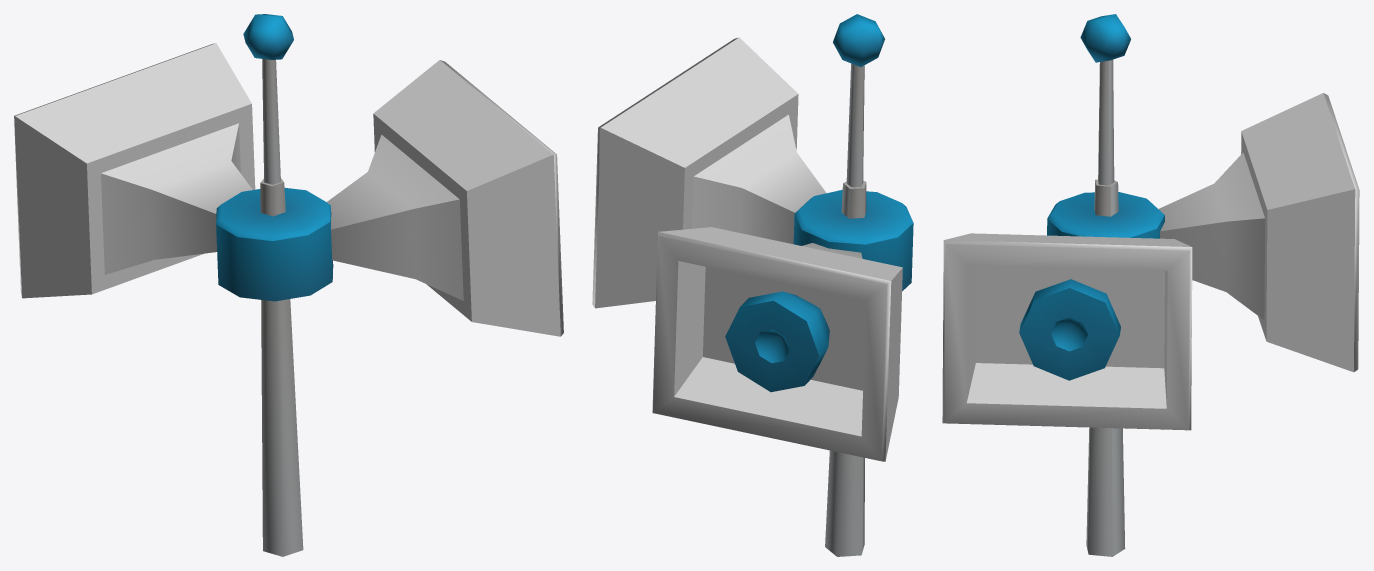
Rendered from ExchangeSpeakers.glb.
3 renders of one model, left to right at view 1: azimuth 30°, elevation 25°; view 2: azimuth 150°, elevation 25°; view 3: azimuth 270°, elevation 25°, orthographic.
Parts seen in each view (by area): view 1: ExchangeSpeakers; view 2: ExchangeSpeakers; view 3: ExchangeSpeakers.
Boxes of the visible parts, left/top/right/bottom form: ExchangeSpeakers: left=14, top=14, right=563, bottom=556; ExchangeSpeakers: left=592, top=14, right=913, bottom=556; ExchangeSpeakers: left=942, top=14, right=1359, bottom=556.
Size of the model in its own units: 1.24 by 1.72 by 1.23.
